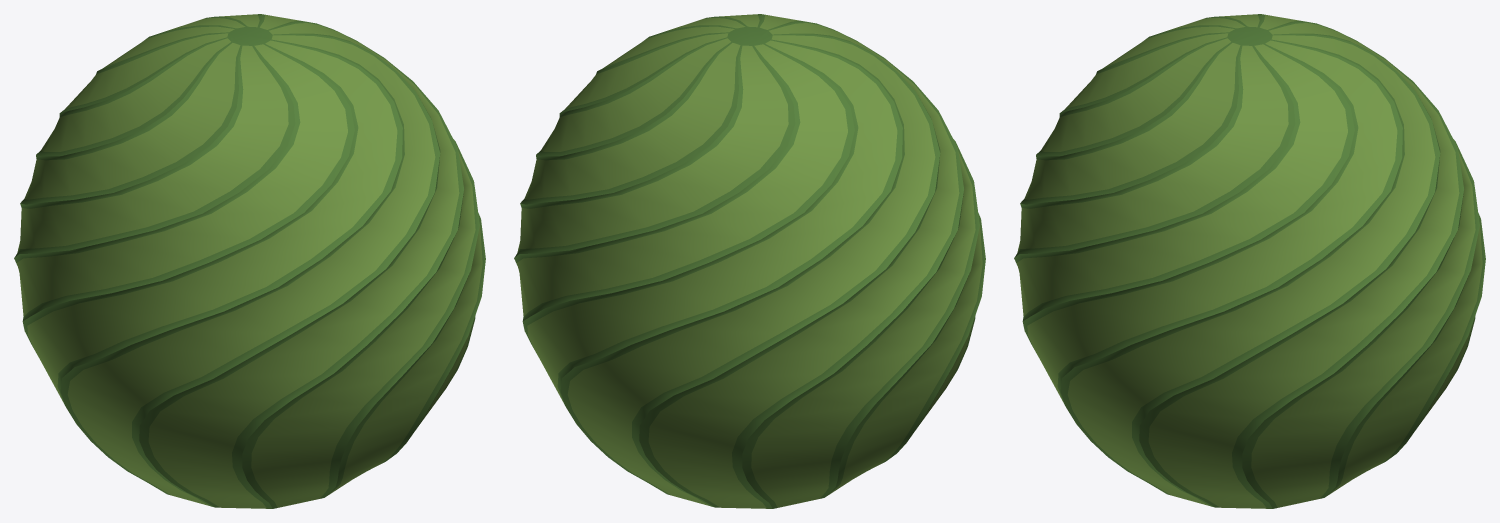
File: tree_leaves.glb
The picture shows the model from 3 angles, left to right: view 1: azimuth 30°, elevation 25°; view 2: azimuth 150°, elevation 25°; view 3: azimuth 270°, elevation 25°; orthographic projection.
Visible parts, largest first — view 1: tree_leaves; view 2: tree_leaves; view 3: tree_leaves.
Part boxes in pixels (x1,y1,x2,y2): tree_leaves: (14, 14, 485, 508); tree_leaves: (514, 14, 985, 508); tree_leaves: (1014, 14, 1485, 508).
Bounding box in the file's own units: 1 × 0.9976 × 1.
